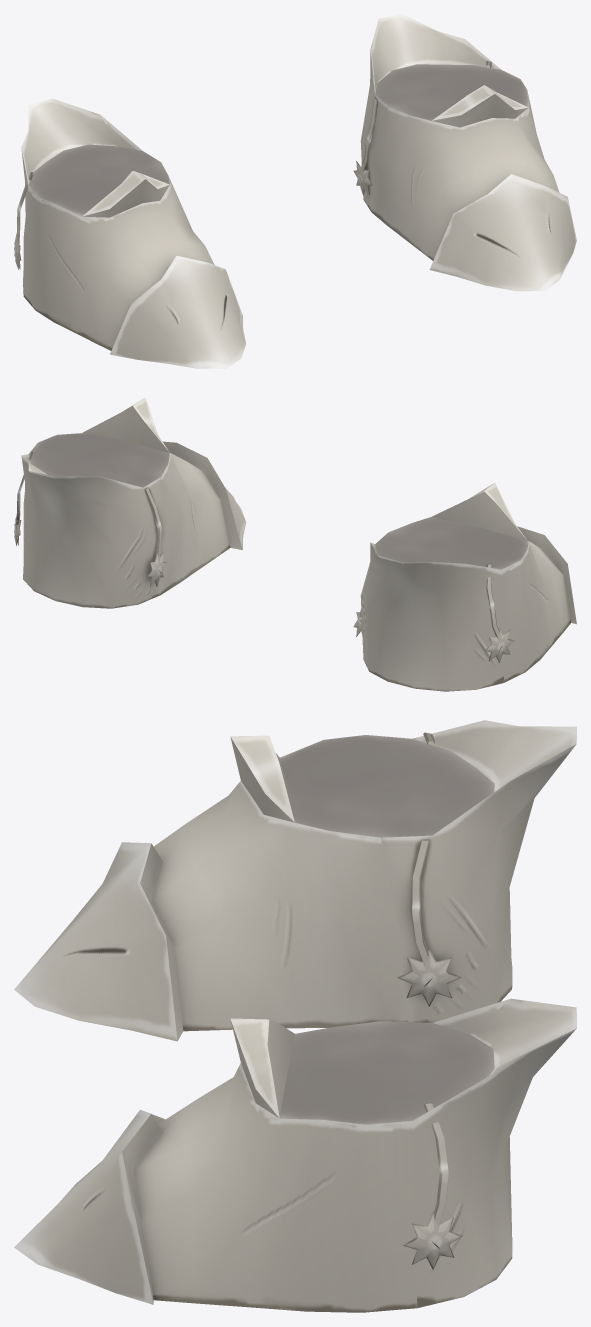
File: armorshoe.glb
The picture shows the model from 3 angles, top to bottom: view 1: azimuth 30°, elevation 25°; view 2: azimuth 150°, elevation 25°; view 3: azimuth 270°, elevation 25°; orthographic projection. The views are drawn at different scales.
Parts seen in each view (by area): view 1: armorshoe; view 2: armorshoe; view 3: armorshoe.
Boxes of the visible parts, x1=… form: armorshoe: x1=14, y1=14, x2=576, y2=368; armorshoe: x1=14, y1=397, x2=576, y2=691; armorshoe: x1=14, y1=720, x2=576, y2=1312.
Bounding box in the file's own units: 0.3968 × 0.1127 × 0.2368.
Materials: 1 (1 with a texture image).
